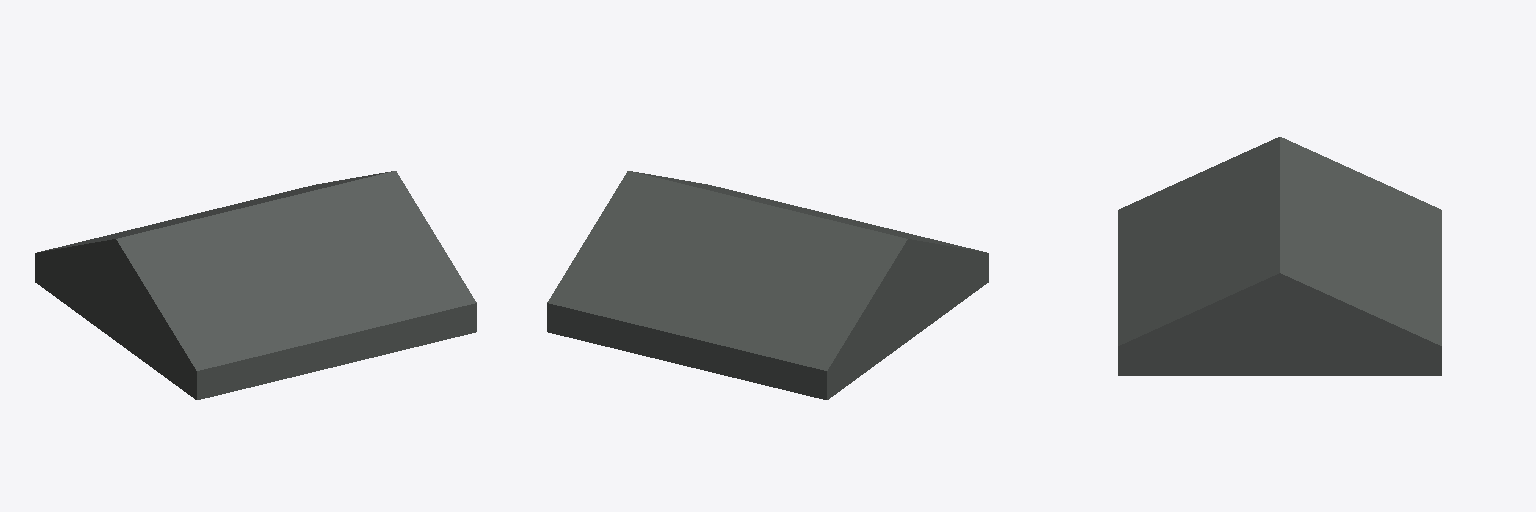
File: Roof_tile_33_2x2_Double.obj
3 renders of one model, left to right at view 1: azimuth 30°, elevation 25°; view 2: azimuth 150°, elevation 25°; view 3: azimuth 270°, elevation 25°, orthographic.
Visible parts, largest first — view 1: 3300_1.3300_1n_3300_1, box4o4a_1.box4o4a_1n_box4o4a_1; view 2: 3300_1.3300_1n_3300_1, box4o4a_1.box4o4a_1n_box4o4a_1; view 3: 3300_1.3300_1n_3300_1, box4o4a_1.box4o4a_1n_box4o4a_1.
Part boxes in pixels (left/top/right/bottom): 3300_1.3300_1n_3300_1: left=36, top=171, right=476, bottom=370; box4o4a_1.box4o4a_1n_box4o4a_1: left=35, top=253, right=476, bottom=399; 3300_1.3300_1n_3300_1: left=547, top=171, right=987, bottom=370; box4o4a_1.box4o4a_1n_box4o4a_1: left=547, top=253, right=988, bottom=399; 3300_1.3300_1n_3300_1: left=1118, top=137, right=1441, bottom=345; box4o4a_1.box4o4a_1n_box4o4a_1: left=1118, top=346, right=1441, bottom=375.
Bounding box in the file's own units: 4 × 1.4 × 4.